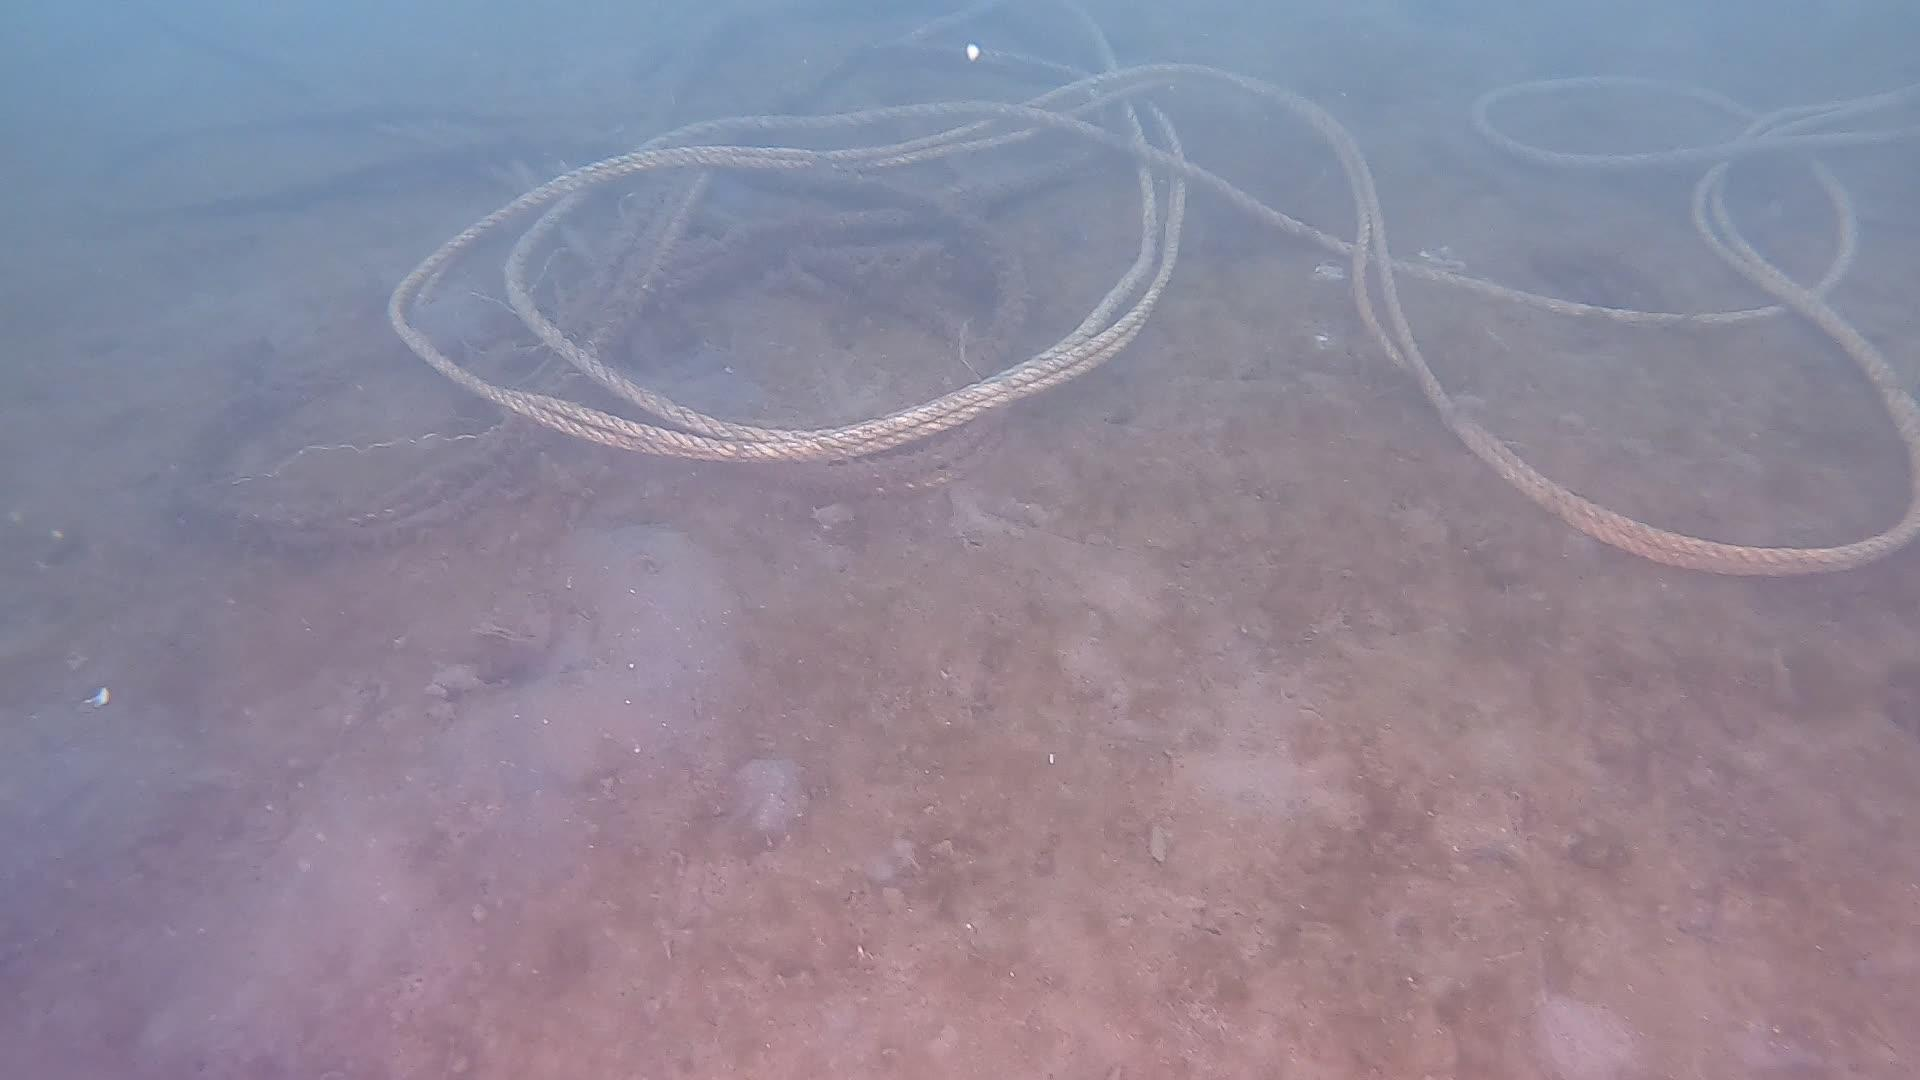bundle of ropes: (386, 0, 1913, 584)
